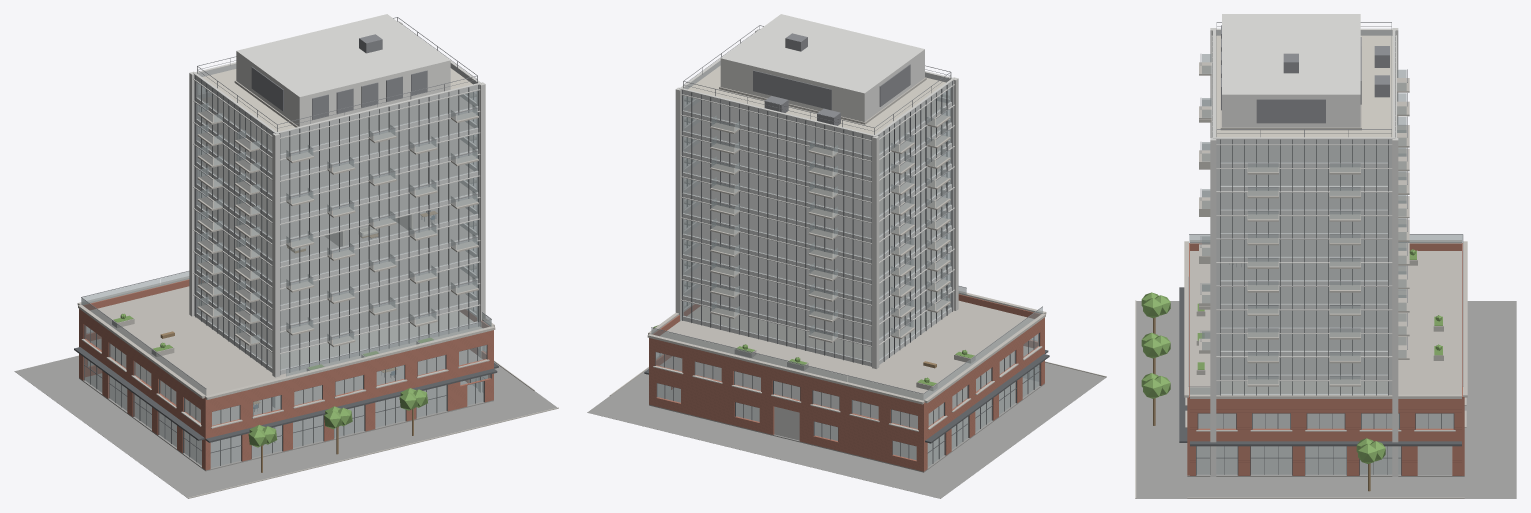
The model's file is clay-brick-podium-condo-tower-clay-v002.glb.
The picture shows the model from 3 angles, left to right: view 1: azimuth 30°, elevation 25°; view 2: azimuth 150°, elevation 25°; view 3: azimuth 270°, elevation 25°; orthographic projection. The views are drawn at different scales.
Visible parts, largest first — view 1: CLAY_GLASS, CLAY_FLOOR, CLAY_FOUNDATION, CLAY_SPANDREL, CLAY_WALL, CLAY_TRIM, CLAY_METAL, CLAY_SAND, CLAY_PALE, CLAY_CONCRETE, CLAY_HARDWARE, CLAY_STONE (+2 smaller); view 2: CLAY_GLASS, CLAY_FLOOR, CLAY_SPANDREL, CLAY_WALL, CLAY_FOUNDATION, CLAY_SAND, CLAY_TRIM, CLAY_METAL, CLAY_PALE, CLAY_CONCRETE, CLAY_HARDWARE, CLAY_STONE (+1 smaller); view 3: CLAY_GLASS, CLAY_FLOOR, CLAY_FOUNDATION, CLAY_SPANDREL, CLAY_METAL, CLAY_SAND, CLAY_WALL, CLAY_CONCRETE, CLAY_PALE, CLAY_TRIM, CLAY_HARDWARE, CLAY_STONE (+3 smaller).
Part boxes in pixels (x1,y1,x2,y2): CLAY_GLASS: [81, 83, 491, 467]; CLAY_FLOOR: [91, 95, 482, 425]; CLAY_FOUNDATION: [14, 355, 556, 498]; CLAY_SPANDREL: [194, 63, 479, 374]; CLAY_WALL: [79, 278, 493, 470]; CLAY_TRIM: [74, 75, 498, 465]; CLAY_METAL: [236, 14, 450, 126]; CLAY_SAND: [90, 283, 482, 395]; CLAY_PALE: [189, 21, 485, 442]; CLAY_CONCRETE: [112, 80, 478, 371]; CLAY_HARDWARE: [81, 17, 491, 388]; CLAY_STONE: [77, 276, 558, 498]; CLAY_GLASS: [651, 88, 1042, 466]; CLAY_FLOOR: [659, 100, 1033, 428]; CLAY_SPANDREL: [681, 61, 953, 366]; CLAY_WALL: [649, 294, 1044, 471]; CLAY_FOUNDATION: [587, 362, 1106, 498]; CLAY_SAND: [660, 298, 1034, 400]; CLAY_TRIM: [644, 81, 1049, 463]; CLAY_METAL: [720, 14, 924, 121]; CLAY_PALE: [657, 29, 958, 440]; CLAY_CONCRETE: [685, 77, 975, 390]; CLAY_HARDWARE: [651, 25, 1042, 393]; CLAY_STONE: [609, 291, 1106, 431]; CLAY_GLASS: [1189, 54, 1462, 474]; CLAY_FLOOR: [1198, 145, 1453, 428]; CLAY_FOUNDATION: [1136, 301, 1516, 498]; CLAY_SPANDREL: [1216, 30, 1392, 395]; CLAY_METAL: [1222, 14, 1360, 127]; CLAY_SAND: [1190, 251, 1461, 394]; CLAY_WALL: [1187, 243, 1464, 475]; CLAY_CONCRETE: [1196, 46, 1443, 386]; CLAY_PALE: [1210, 28, 1451, 476]; CLAY_TRIM: [1179, 31, 1461, 475]; CLAY_HARDWARE: [1188, 22, 1463, 386]; CLAY_STONE: [1135, 240, 1467, 498].
Bounding box in the file's own units: 54 × 48.2 × 44.
